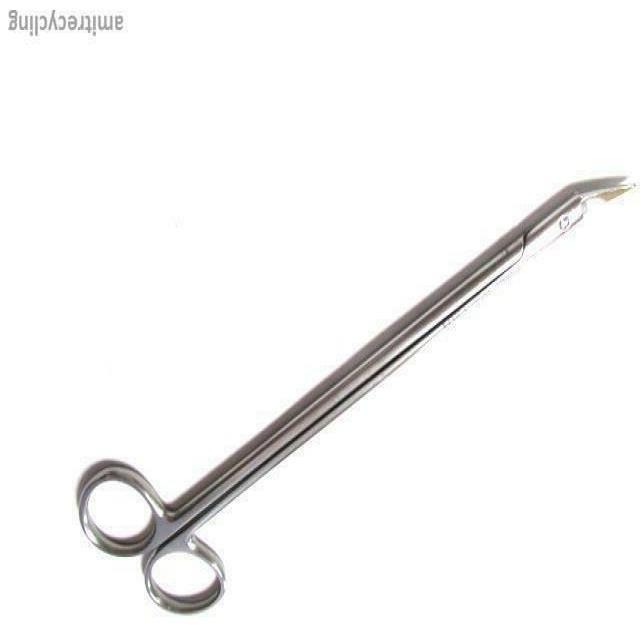Potts: (73, 170, 638, 622)
